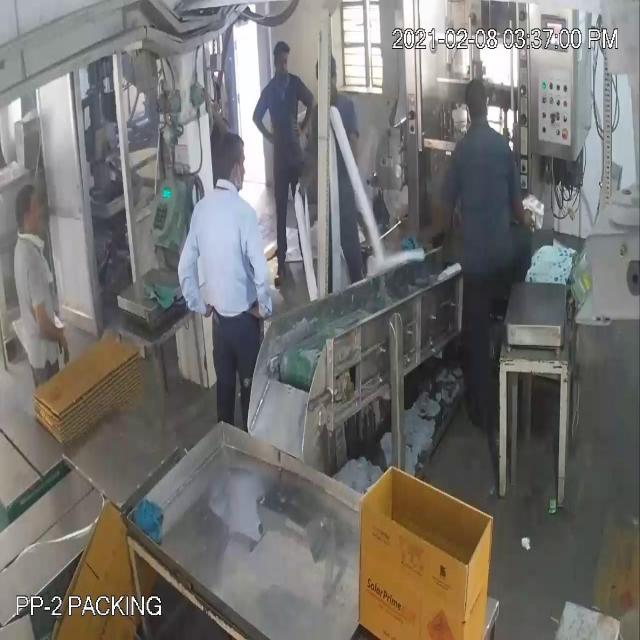No_Gloves: (38, 65, 267, 334)
